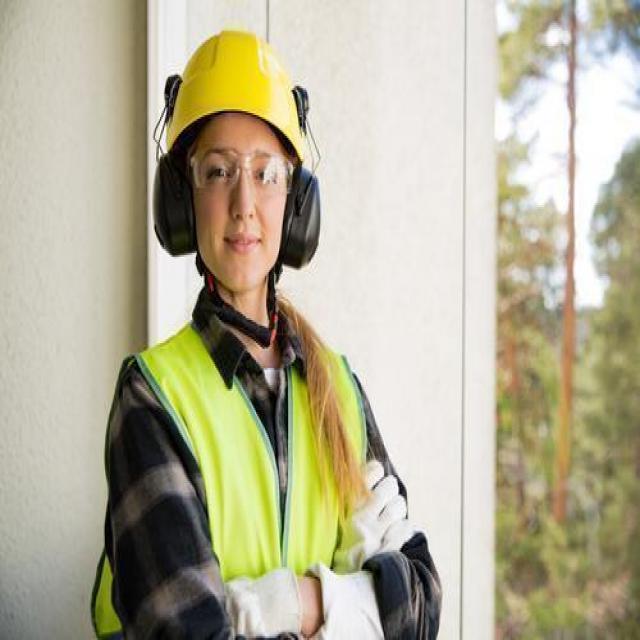hat: (165, 31, 306, 155)
